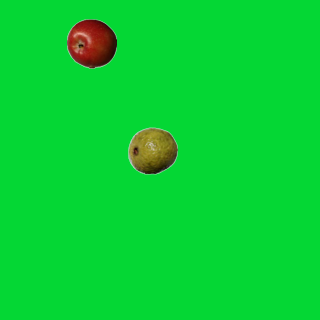Apple Braeburn: (66, 18, 116, 68)
Guava: (127, 125, 177, 175)
